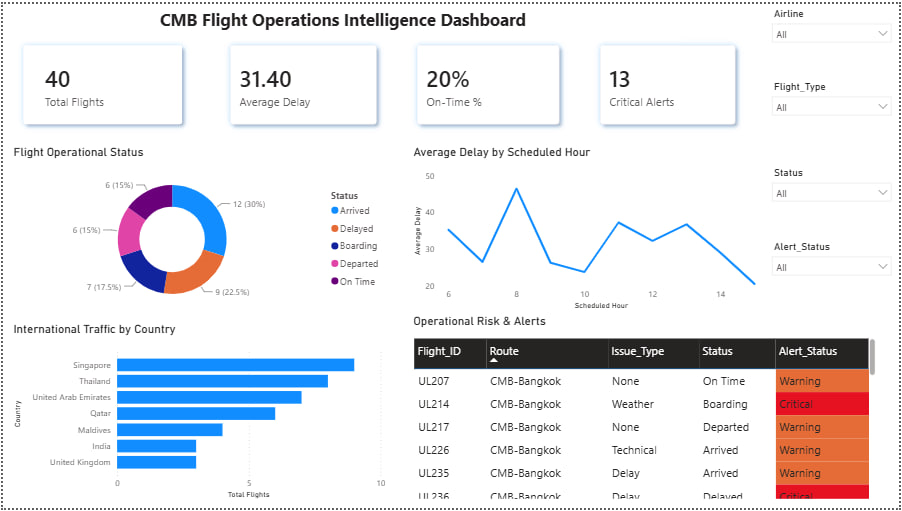

Layout of this report page (visuals, bound fields, positions):
{"tool":"powerbi","page":{"name":"Page 1","canvas":[1280,720],"ordinal":0},"visuals":[{"type":"cardVisual","fields":{"Data":["CMB_Flight_Data.Total Flights"]},"box":[0,30,285.7,171.4],"z":0},{"type":"cardVisual","fields":{"Data":["CMB_Flight_Data.Average Delay"]},"box":[295.7,30,267.1,171.4],"z":1000},{"type":"cardVisual","fields":{"Data":["CMB_Flight_Data.On-Time %"]},"box":[562.9,30,261.4,171.4],"z":2000},{"type":"cardVisual","fields":{"Data":["CMB_Flight_Data.Critical Alerts"]},"box":[824.3,30,251.4,171.4],"z":3000},{"type":"donutChart","title":"Flight Operational Status","fields":{"Category":["CMB_Flight_Data.Status"],"Y":["CMB_Flight_Data.Total Flights"]},"box":[10,201.4,541.4,240],"z":4000},{"type":"lineChart","title":"Average Delay by Scheduled Hour","fields":{"Category":["CMB_Flight_Data.Scheduled Hour"],"Y":["CMB_Flight_Data.Average Delay"]},"box":[581.4,201.4,507.1,240],"z":5000},{"type":"clusteredBarChart","title":"International Traffic by Country","fields":{"Category":["CMB_Flight_Data.Country"],"Y":["CMB_Flight_Data.Total Flights"]},"box":[10,454.3,541.4,257.1],"z":6000},{"type":"tableEx","title":"Operational Risk & Alerts","fields":{"Values":["CMB_Flight_Data.Flight_ID","CMB_Flight_Data.Route","CMB_Flight_Data.Issue_Type","CMB_Flight_Data.Status","CMB_Flight_Data.Alert_Status"]},"box":[581.4,442.9,670,268.6],"z":7000},{"type":"slicer","fields":{"Values":["CMB_Flight_Data.Airline"]},"box":[1088.6,0,191.4,104.3],"z":8000},{"type":"slicer","fields":{"Values":["CMB_Flight_Data.Flight_Type"]},"box":[1088.6,104.3,191.4,111.4],"z":9000},{"type":"slicer","fields":{"Values":["CMB_Flight_Data.Status"]},"box":[1088.6,227.1,191.4,105.7],"z":10000},{"type":"slicer","fields":{"Values":["CMB_Flight_Data.Alert_Status"]},"box":[1088.6,332.9,191.4,92.9],"z":11000},{"type":"textbox","box":[0,0,971.4,52.9],"z":12000}]}

Visuals, with their boxes in screenshot pixels (x1, y1, x2, y2), scaled from the page's 1280x720 canvas onto the 902x511 screenshot:
cardVisual - CMB_Flight_Data.Total Flights: [x1=0, y1=21, x2=201, y2=143]
cardVisual - CMB_Flight_Data.Average Delay: [x1=208, y1=21, x2=397, y2=143]
cardVisual - CMB_Flight_Data.On-Time %: [x1=397, y1=21, x2=581, y2=143]
cardVisual - CMB_Flight_Data.Critical Alerts: [x1=581, y1=21, x2=758, y2=143]
"Flight Operational Status" donutChart: [x1=7, y1=143, x2=389, y2=313]
"Average Delay by Scheduled Hour" lineChart: [x1=410, y1=143, x2=767, y2=313]
"International Traffic by Country" clusteredBarChart: [x1=7, y1=322, x2=389, y2=505]
"Operational Risk & Alerts" tableEx: [x1=410, y1=314, x2=882, y2=505]
slicer - CMB_Flight_Data.Airline: [x1=767, y1=0, x2=901, y2=74]
slicer - CMB_Flight_Data.Flight_Type: [x1=767, y1=74, x2=901, y2=153]
slicer - CMB_Flight_Data.Status: [x1=767, y1=161, x2=901, y2=236]
slicer - CMB_Flight_Data.Alert_Status: [x1=767, y1=236, x2=901, y2=302]
textbox: [x1=0, y1=0, x2=685, y2=38]
